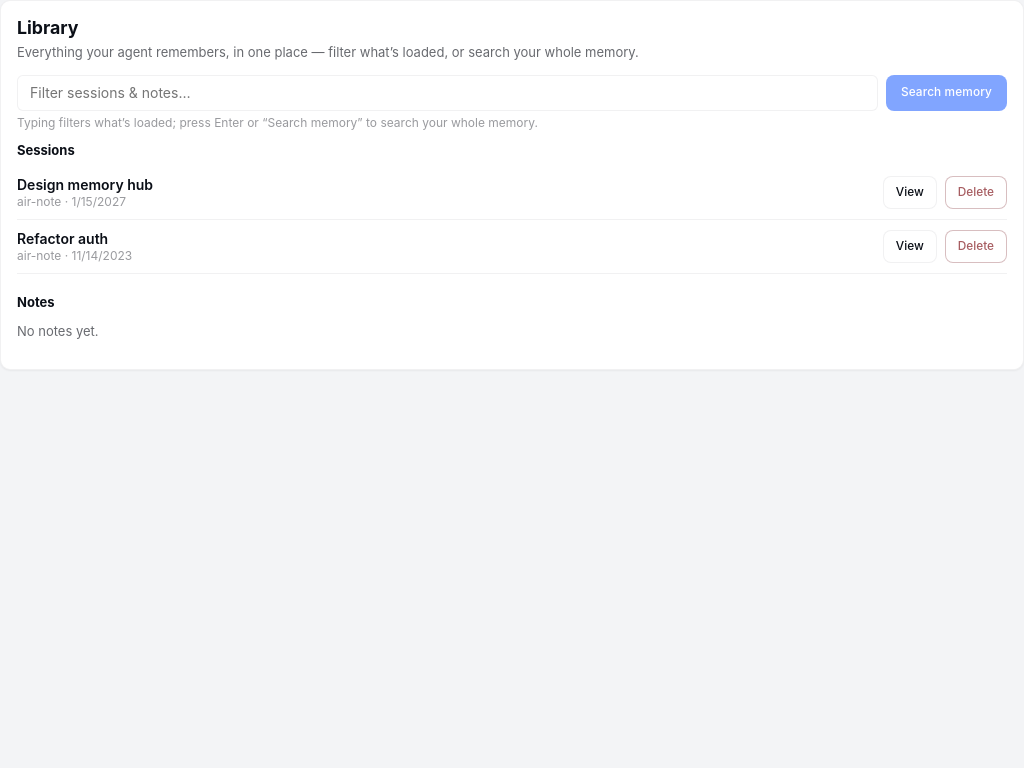
Test: LibraryPanel › Delete asks for confirmation quoting the honesty note, then removes the row on confirm
The image size is (1024, 768).
Expected: the text "Design memory hub" is shown, [17,176,153,194]
# Two rows → scope to the newest session's row so we delete the right one.
What coordinates should you click on to do the following:
click the button "Delete" in the row of "Design memory hub"
I would click on:
 (976, 192)
Its box is [945,176,1007,209].
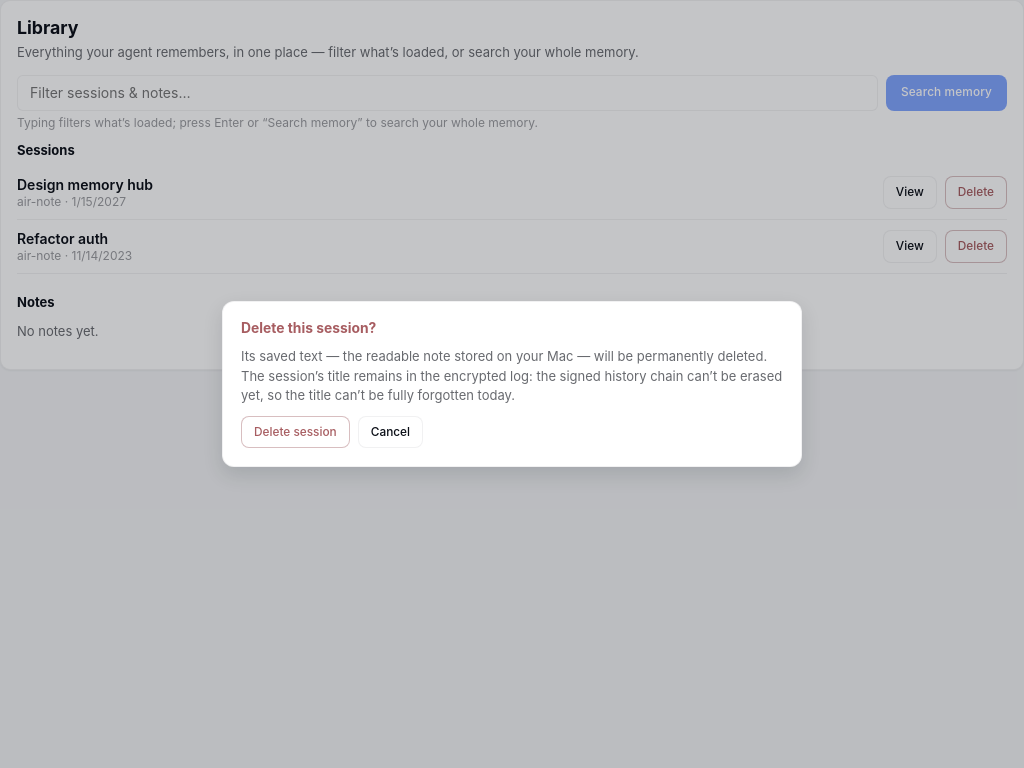
Result: the text "title remains in the encrypted log" is shown at [241,348,782,403]
What coordinates should you click on to do the following:
click the button "Delete session"
I would click on:
 (295, 432)
Its box is [241,416,350,448].
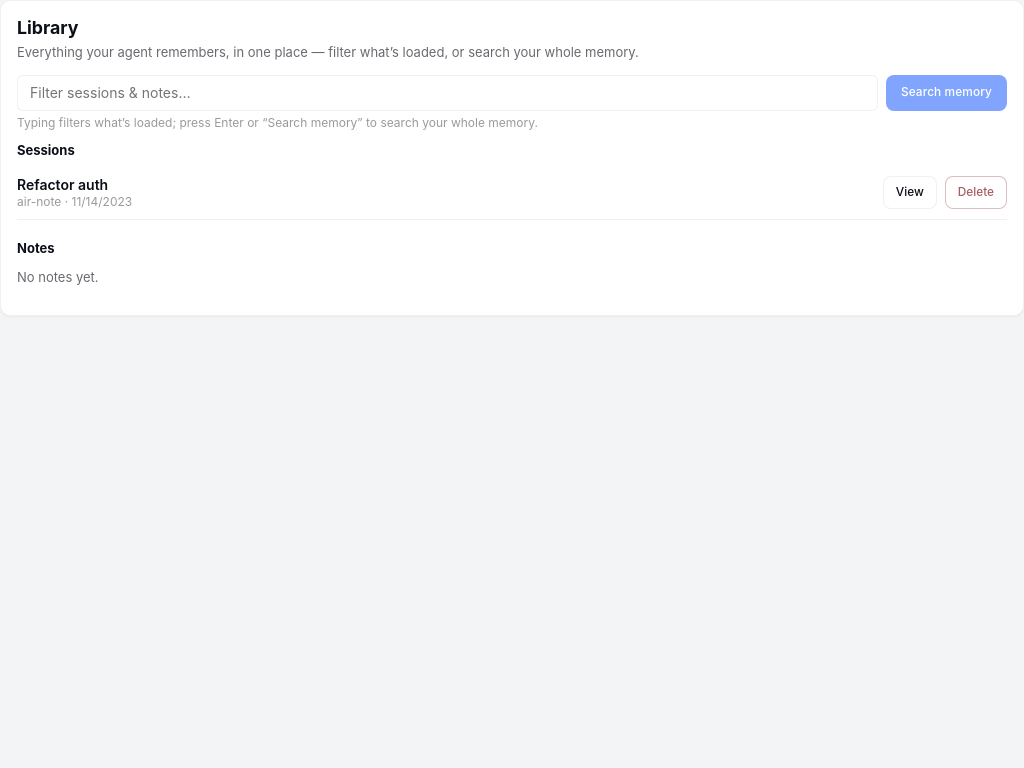
Expected: the text "Refactor auth" is shown, [17,176,108,193]
Result: the text "Design memory hub" is gone
